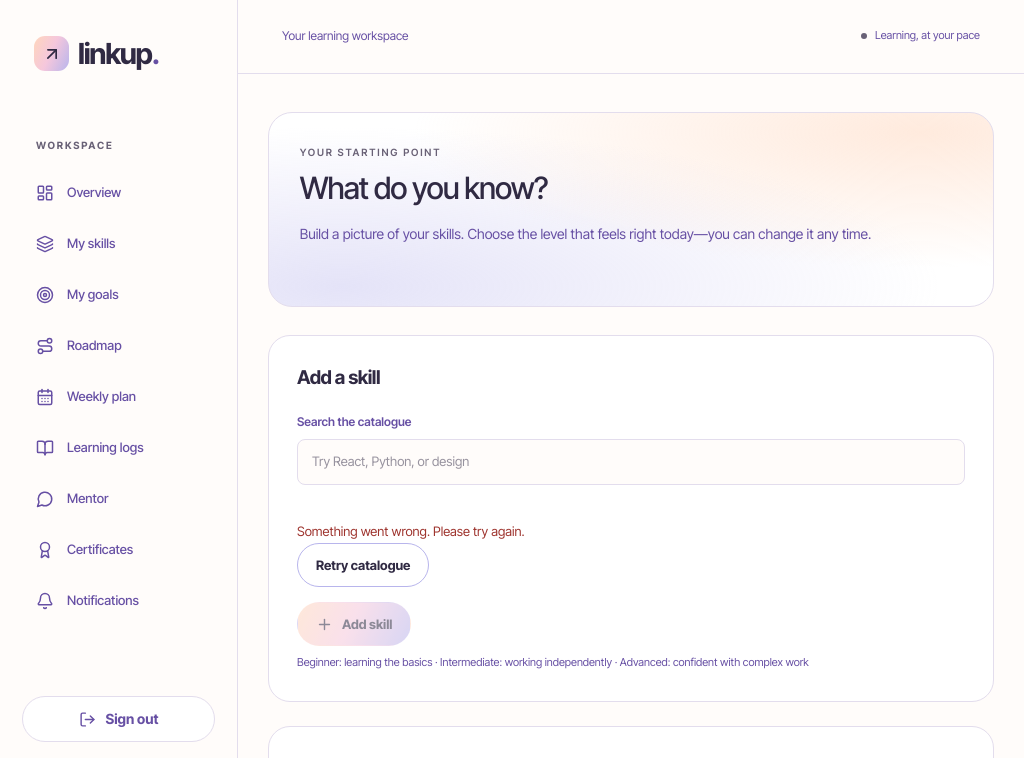
skill profile screen › retries catalogue and profile fetch errors independently
This screenshot has width=1024, height=758.
Click the button "Retry catalogue". click: click(363, 565)
box: [297,543,429,587]
(page scrolled)
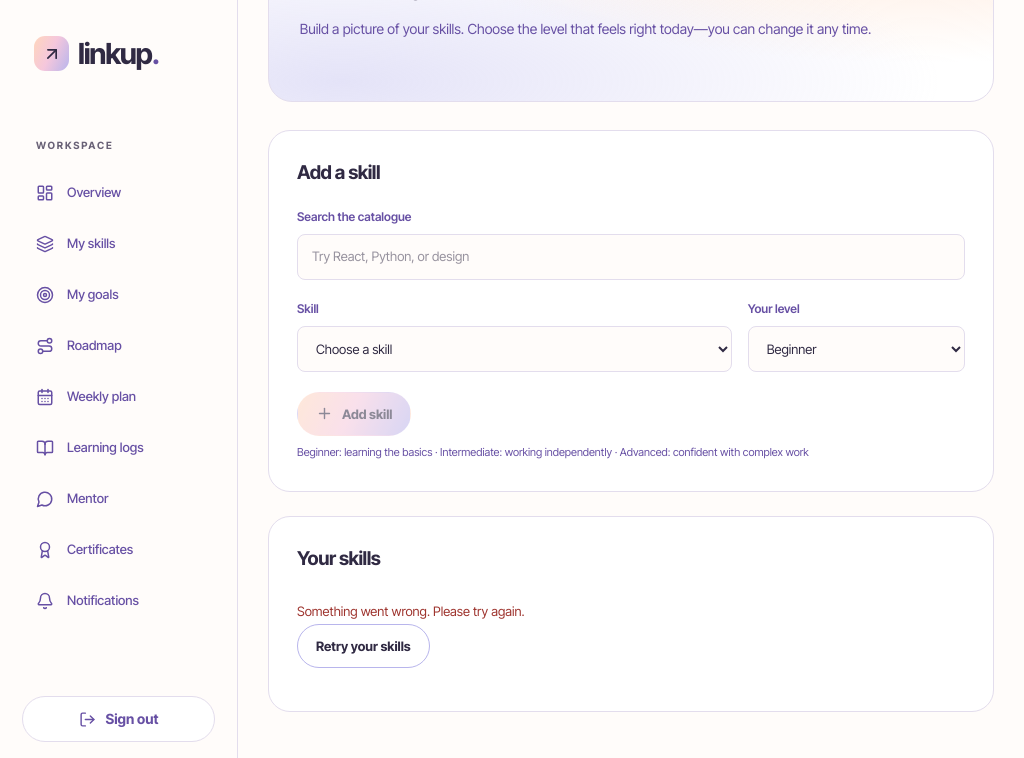
Expected: the button "Add skill" is disabled, [297,392,412,436]
Result: the dropdown labelled "Skill" is shown at [297,326,732,372]
Click the button "Retry your skills". click: click(363, 646)
box: [297,624,430,668]
(page scrolled)
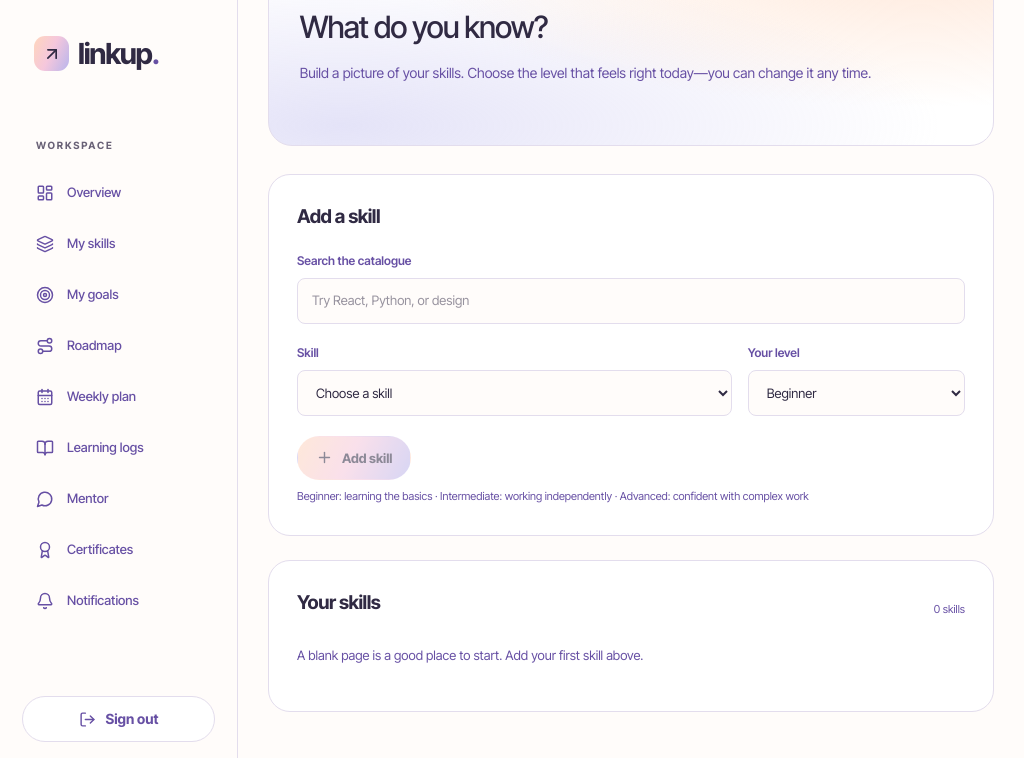
Result: the text "Add your first skill above" is shown at [297,647,644,663]
